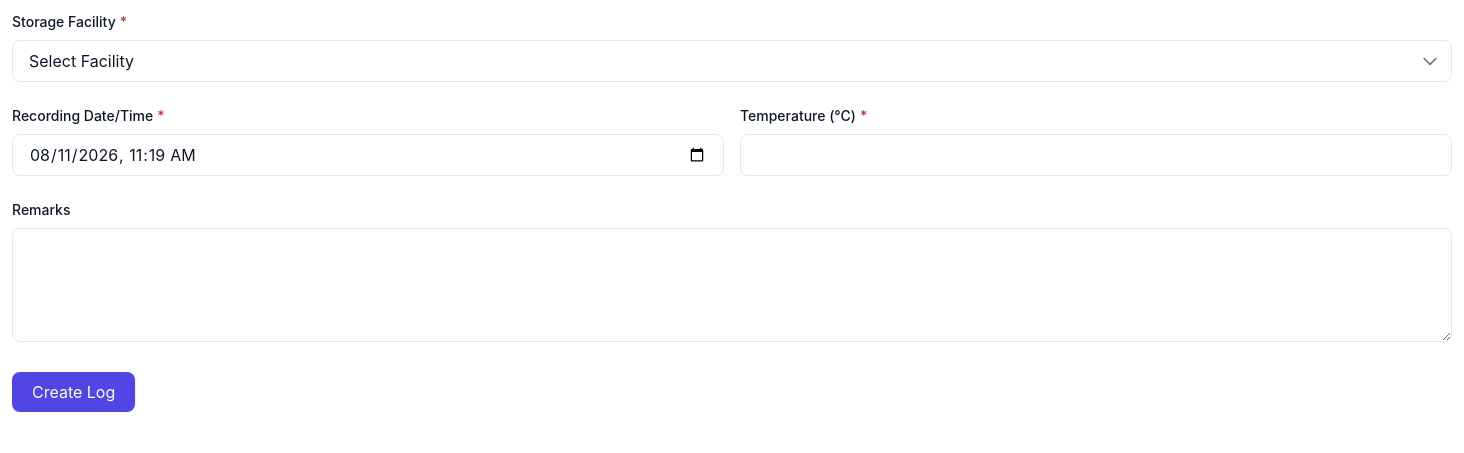
Test: TemperatureLogForm › shows an error when temperature is above 6°C
This screenshot has width=1464, height=453.
Select "Main Cold Storage" in the dropdown named "storageFacilityId" at (732, 61), box [12,40,1452,82]
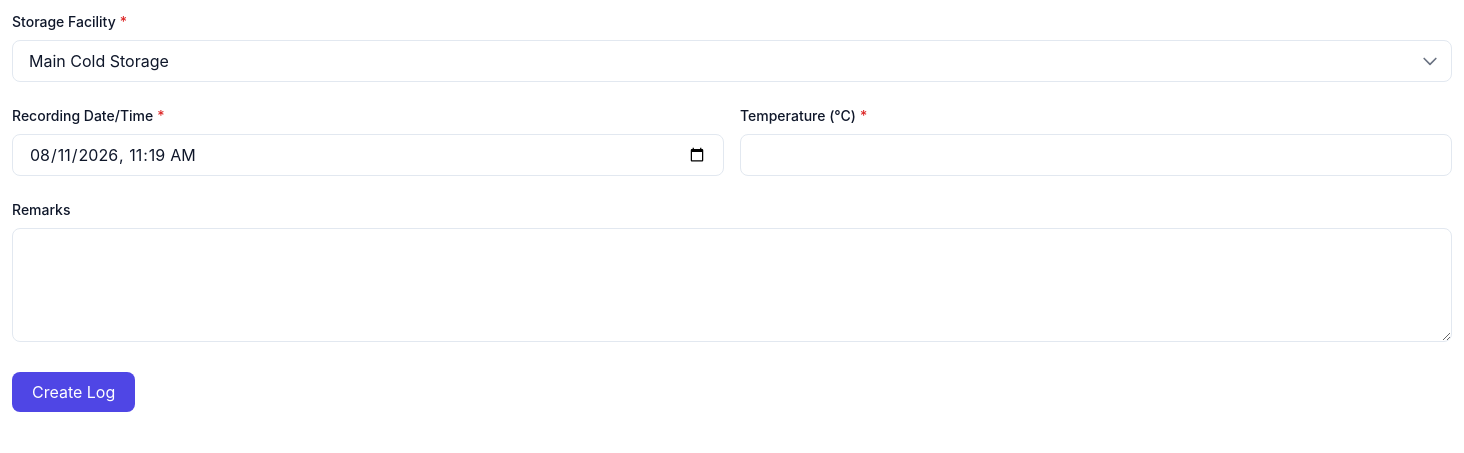
Type "6.1" into the number field named "temperatureReading" at (1096, 155), box [740,134,1452,176]
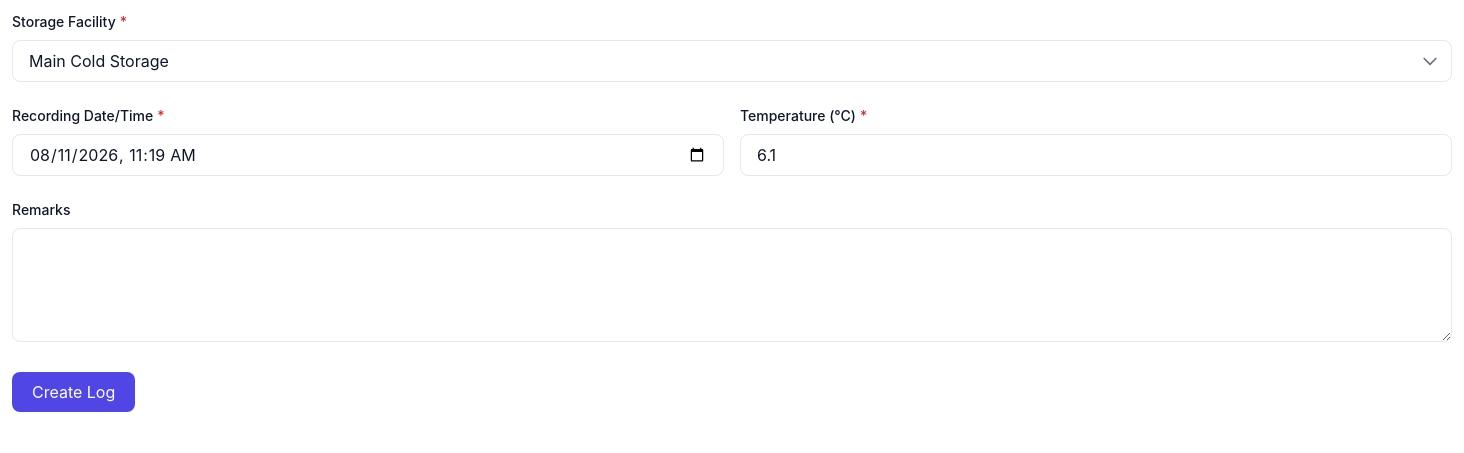
Click the button "Create Log" at (74, 392), box [12,372,135,412]
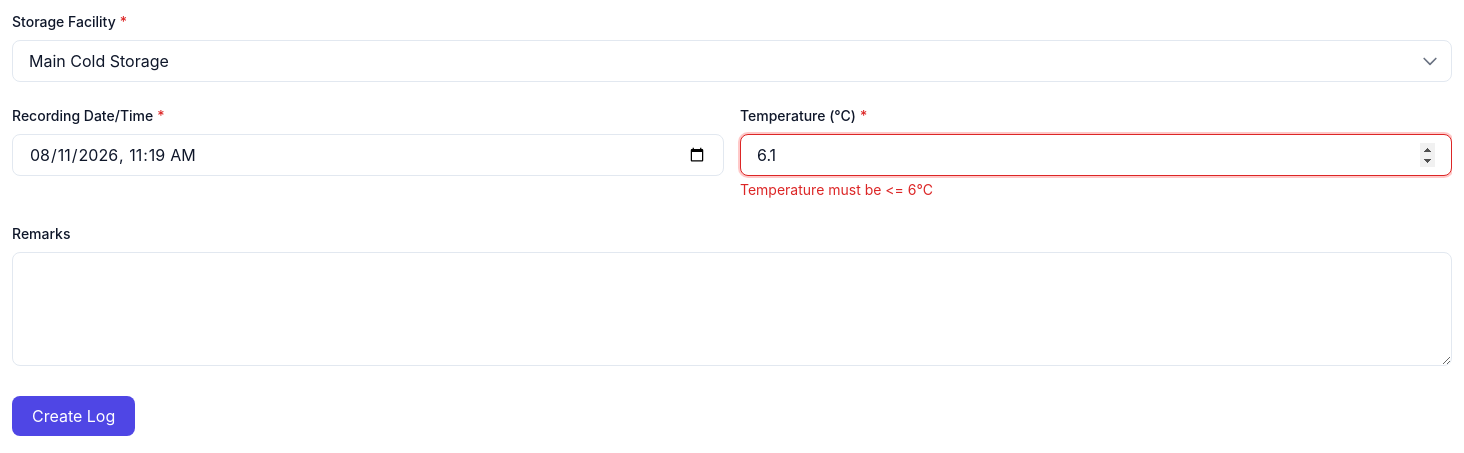
Expected: the text "Temperature must be <= 6°C" is shown, [740,181,933,198]
